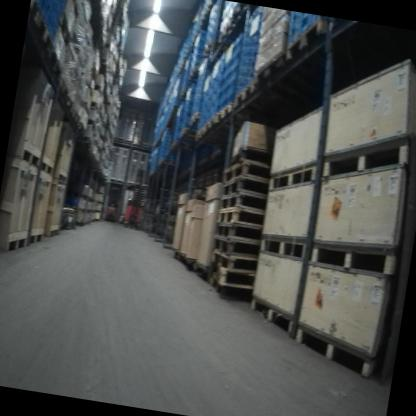forklift: (122, 167, 147, 230), (104, 185, 122, 222)
pallet: (320, 119, 416, 197), (306, 228, 403, 283), (290, 319, 379, 378), (245, 290, 301, 338), (266, 153, 322, 198), (284, 15, 327, 65), (221, 155, 272, 191), (257, 229, 310, 263), (219, 173, 269, 207), (218, 189, 267, 219), (210, 232, 260, 261), (253, 47, 287, 89), (31, 9, 60, 58), (215, 203, 265, 230), (208, 262, 255, 289), (214, 219, 263, 244), (210, 250, 257, 275), (46, 48, 66, 86), (231, 80, 255, 110), (56, 9, 74, 44), (19, 144, 43, 170), (5, 231, 29, 255), (217, 19, 233, 46), (58, 81, 74, 107), (27, 225, 45, 247), (217, 100, 233, 122), (27, 0, 42, 21), (67, 103, 82, 124), (205, 110, 218, 130), (39, 159, 54, 176), (187, 109, 200, 128), (66, 0, 80, 17), (193, 124, 206, 142), (55, 169, 69, 184), (48, 224, 60, 239), (77, 120, 87, 137), (178, 126, 188, 140)
